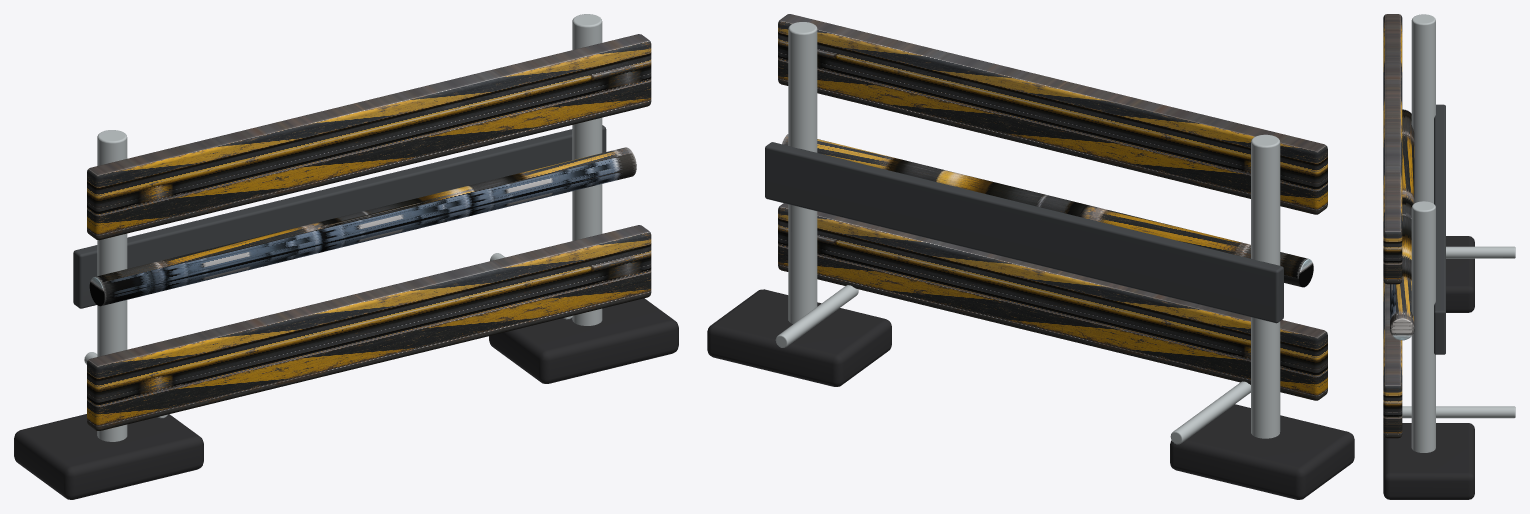
The model's file is room_l1_img2_warning_barrier.glb.
The picture shows the model from 3 angles, left to right: view 1: azimuth 30°, elevation 25°; view 2: azimuth 150°, elevation 25°; view 3: azimuth 270°, elevation 25°; orthographic projection. The views are drawn at different scales.
Parts seen in each view (by area): view 1: lower_hazard_plank, upper_hazard_plank, front_yellow_cross_tube, rear_dark_spacer_panel, weighted_base_foot_-0.8, weighted_base_foot_+0.8, round_guard_post_-0.8, round_guard_post_+0.8; view 2: upper_hazard_plank, lower_hazard_plank, rear_dark_spacer_panel, weighted_base_foot_-0.8, weighted_base_foot_+0.8, front_yellow_cross_tube, round_guard_post_-0.8, round_guard_post_+0.8, back_side_stabilizer_+0.7, back_side_stabilizer_-0.7; view 3: weighted_base_foot_+0.8, round_guard_post_+0.8, upper_hazard_plank, round_guard_post_-0.8, front_yellow_cross_tube, rear_dark_spacer_panel, lower_hazard_plank, weighted_base_foot_-0.8, back_side_stabilizer_+0.7, back_side_stabilizer_-0.7.
Part boxes in pixels (x1,y1,x2,y2): lower_hazard_plank: [87, 225, 651, 430]; upper_hazard_plank: [87, 34, 651, 240]; front_yellow_cross_tube: [89, 147, 636, 306]; rear_dark_spacer_panel: [73, 125, 606, 308]; weighted_base_foot_-0.8: [14, 414, 203, 499]; weighted_base_foot_+0.8: [489, 298, 678, 383]; round_guard_post_-0.8: [97, 130, 127, 441]; round_guard_post_+0.8: [572, 14, 602, 325]; upper_hazard_plank: [778, 14, 1327, 214]; lower_hazard_plank: [778, 203, 1327, 400]; rear_dark_spacer_panel: [765, 142, 1283, 323]; weighted_base_foot_-0.8: [1170, 404, 1354, 499]; weighted_base_foot_+0.8: [707, 289, 891, 386]; front_yellow_cross_tube: [782, 134, 1313, 287]; round_guard_post_-0.8: [1251, 134, 1280, 438]; round_guard_post_+0.8: [788, 22, 817, 323]; back_side_stabilizer_+0.7: [775, 285, 858, 347]; back_side_stabilizer_-0.7: [1170, 381, 1250, 444]; weighted_base_foot_+0.8: [1383, 423, 1474, 499]; round_guard_post_+0.8: [1411, 201, 1435, 452]; upper_hazard_plank: [1383, 14, 1402, 284]; round_guard_post_-0.8: [1411, 14, 1435, 203]; front_yellow_cross_tube: [1390, 109, 1414, 340]; rear_dark_spacer_panel: [1434, 104, 1445, 354]; lower_hazard_plank: [1383, 281, 1402, 438]; weighted_base_foot_-0.8: [1446, 236, 1474, 312]; back_side_stabilizer_+0.7: [1402, 406, 1515, 418]; back_side_stabilizer_-0.7: [1446, 246, 1515, 258].
Size of the model in its own units: 2.12 by 1.1 by 0.49.
4 materials, 1 textured.
